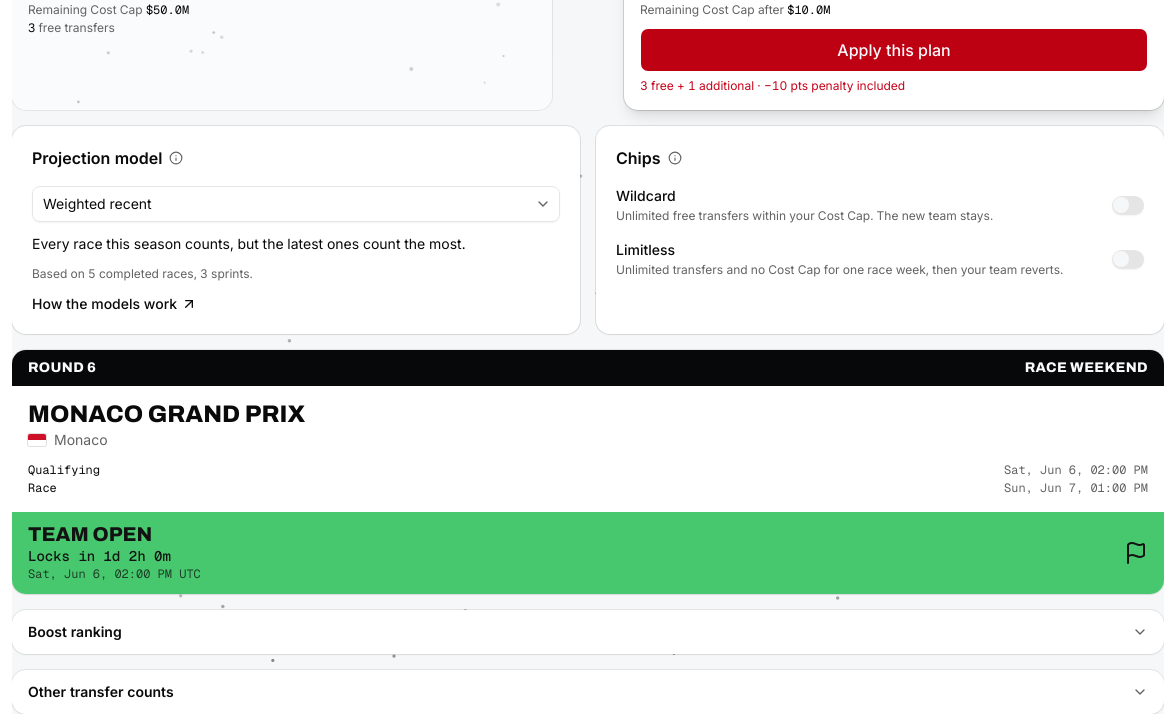
OPEN — Boost ranking › orders drivers by projection and badges the optimizer's Boost driver on top
The width and height of the screenshot is (1176, 714).
(page scrolled)
// The ranking lives in a default-collapsed Collapsible — open it first.
Click the button "Boost ranking": click(75, 632) [12,610,1164,654]
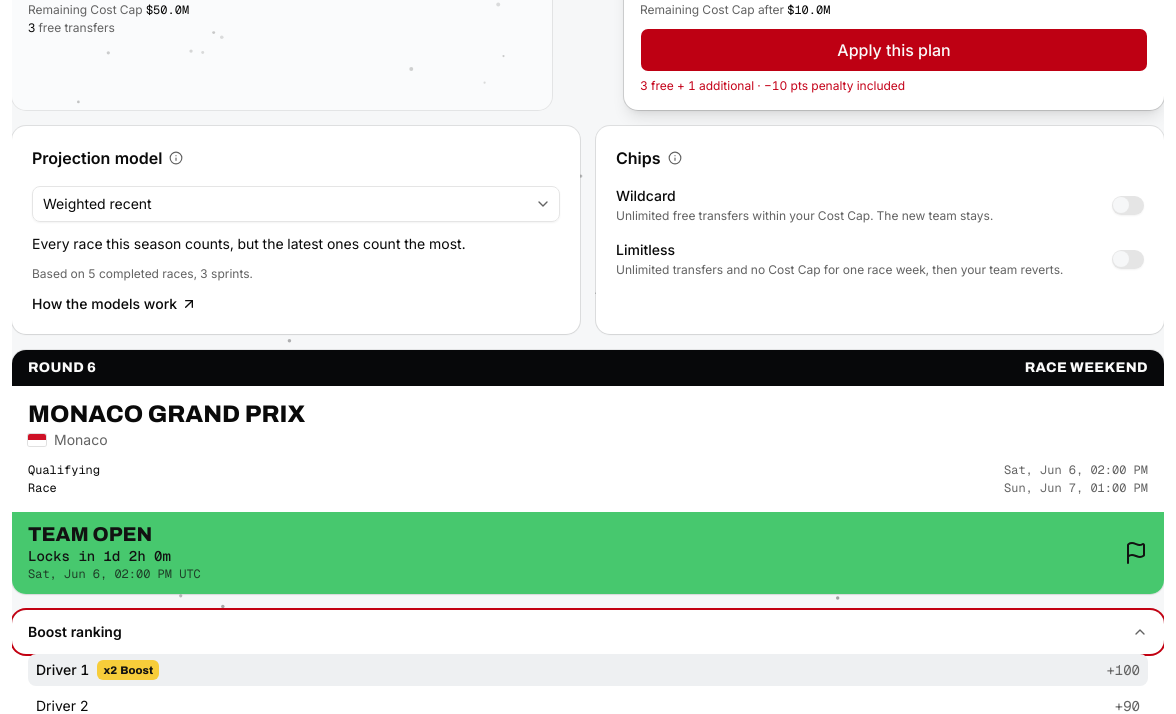
Result: the list item "Driver 1 x2 Boost +100" is shown at [28,654,1148,686]
